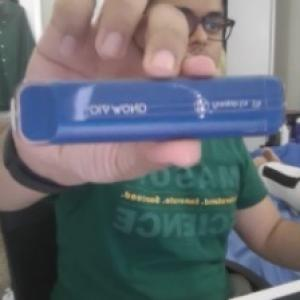Diamond-E-Ciggirate: (6, 72, 290, 149)
